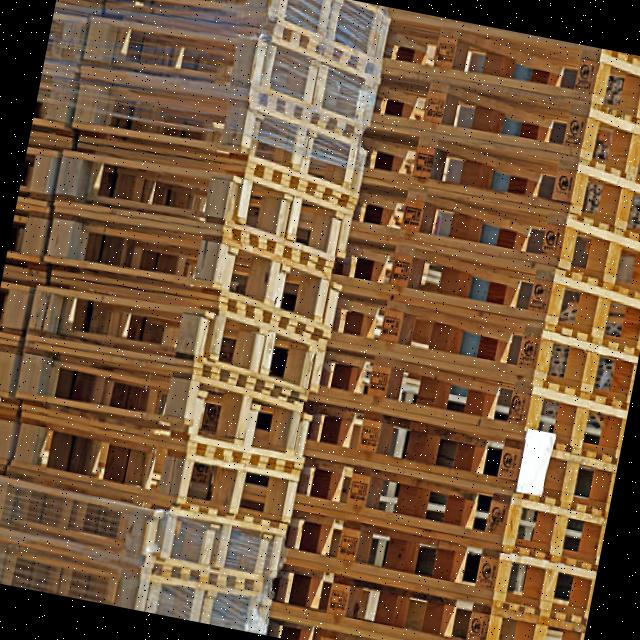Wooden-Pallets: (64, 69, 375, 207), (45, 198, 342, 342), (9, 337, 317, 472), (329, 285, 640, 405), (367, 118, 640, 249)
